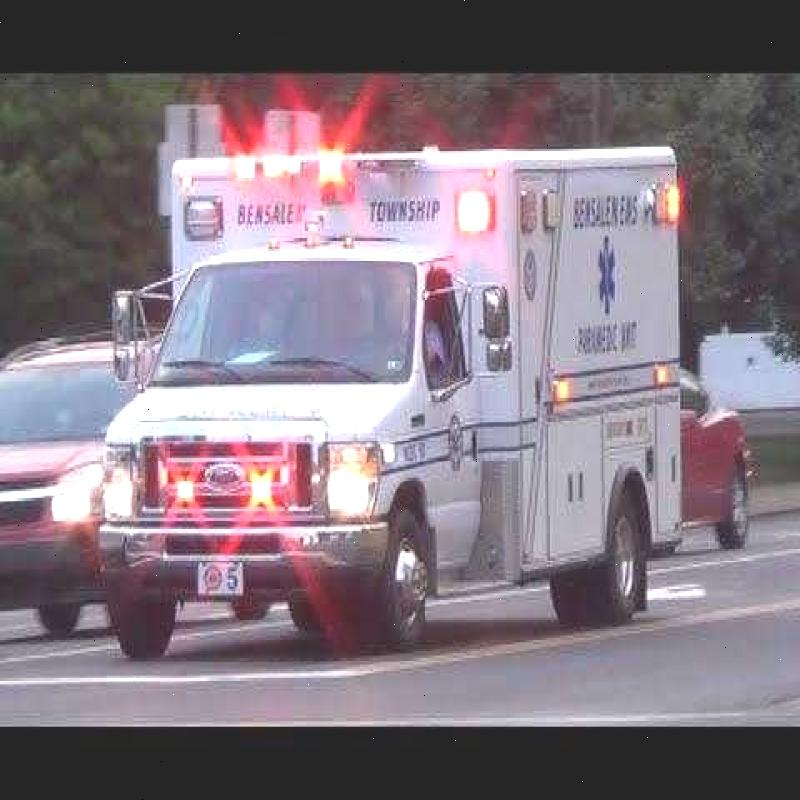AmbulanceSiren: (239, 125, 380, 205), (449, 172, 510, 242)
